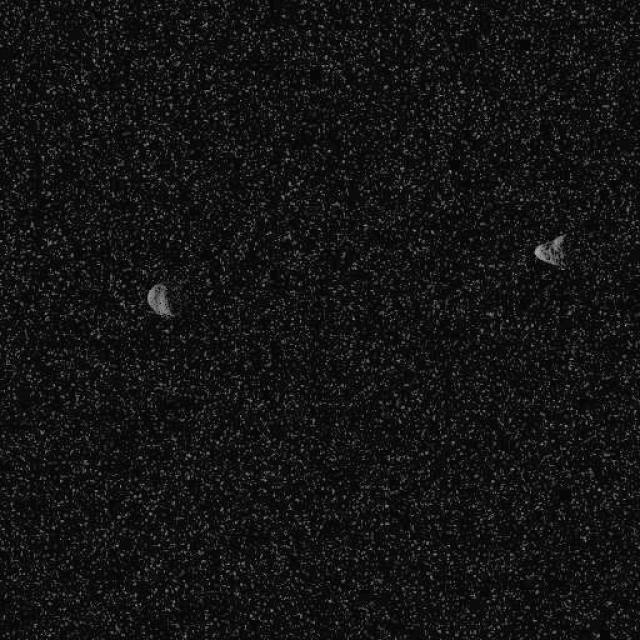D2: (532, 232, 566, 268), (145, 282, 174, 318)
